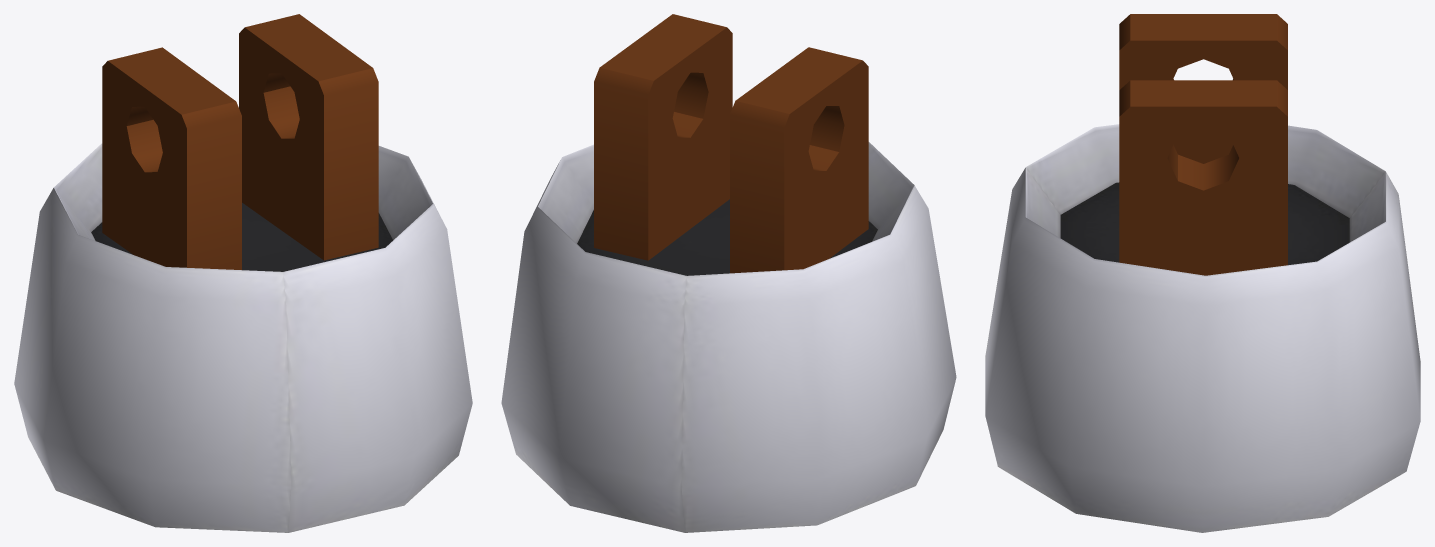
File: PlugEnds.FBX
3 views of the same model, side by side, from view 1: azimuth 30°, elevation 25°; view 2: azimuth 150°, elevation 25°; view 3: azimuth 270°, elevation 25° (orthographic).
Parts seen in each view (by area): view 1: Connector017, Box002, Box001; view 2: Connector017, Box002, Box001; view 3: Connector017, Box002, Box001.
Boxes of the visible parts, x1,y1,x2,y2 form: Connector017: (14, 143, 472, 532); Box002: (239, 14, 378, 260); Box001: (102, 47, 241, 269); Connector017: (501, 142, 956, 532); Box002: (594, 14, 732, 260); Box001: (730, 47, 868, 273); Connector017: (985, 124, 1420, 532); Box002: (1119, 80, 1287, 275); Box001: (1119, 14, 1287, 163).
Bounding box in the file's own units: 21.33 × 19.65 × 20.28.
